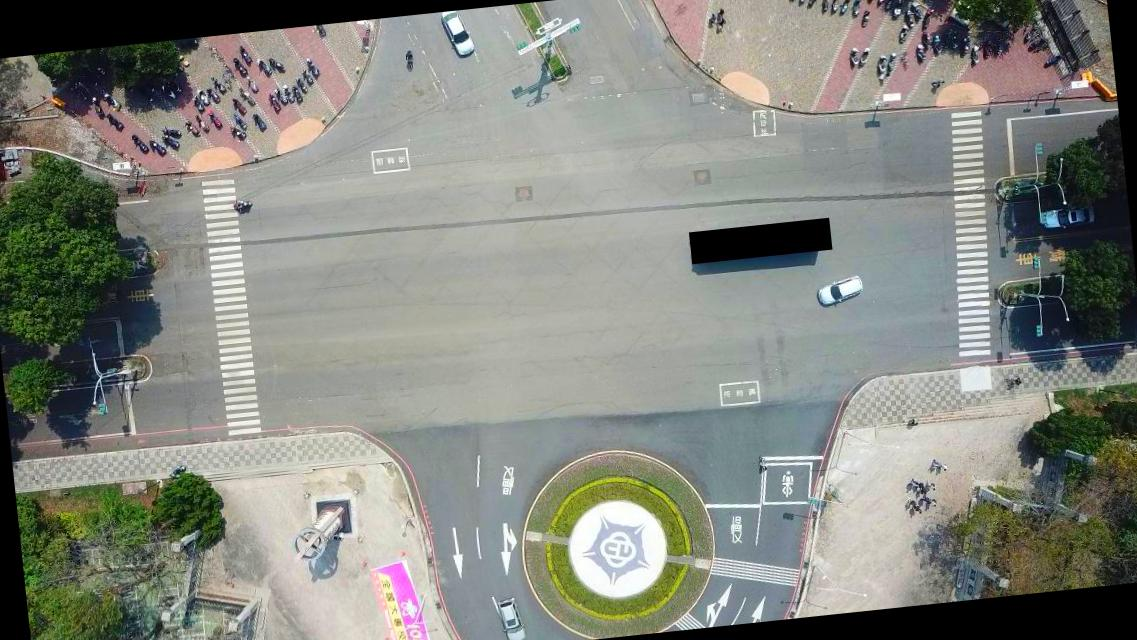vehicle: (438, 8, 476, 59), (1034, 200, 1098, 230), (814, 274, 869, 308), (495, 596, 528, 639)
